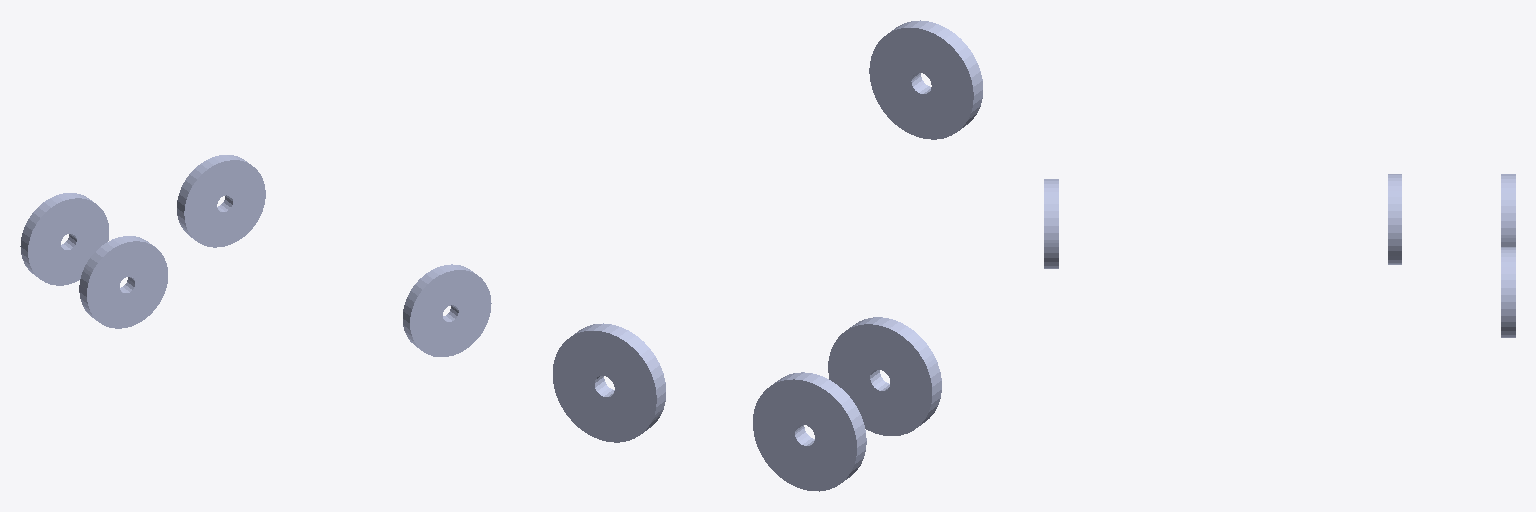
The robot description file, URDF, robot "OP003_robotModel":
<?xml version="1.0" encoding="utf-8"?>
<!-- This URDF was automatically created by SolidWorks to URDF Exporter! Originally created by [author] ([email redacted]) 
     Commit Version: 1.6.0-1-g15f4949  Build Version: 1.6.7594.29634
     For more information, please see http://wiki.ros.org/sw_urdf_exporter -->
<robot
  name="OP003_robotModel">
  <link
    name="base_link">
    <inertial>
      <origin
        xyz="0.245051700459281 0.546295257170444 0.805055023817168"
        rpy="0 0 0" />
      <mass
        value="135.196151840977" />
      <inertia
        ixx="3.11043705676029"
        ixy="0.00141678433850979"
        ixz="-8.85142685952053E-16"
        iyy="12.4167175028441"
        iyz="-1.37846696088194E-16"
        izz="12.7920855454064" />
    </inertial>
    <visual>
      <origin
        xyz="0 0 0"
        rpy="0 0 0" />
      <geometry>
        <mesh
          filename="package://OP003_robotModel/meshes/base_link.STL" />
      </geometry>
      <material
        name="">
        <color
          rgba="0.792156862745098 0.819607843137255 0.933333333333333 1" />
      </material>
    </visual>
    <collision>
      <origin
        xyz="0 0 0"
        rpy="0 0 0" />
      <geometry>
        <mesh
          filename="package://OP003_robotModel/meshes/base_link.STL" />
      </geometry>
    </collision>
  </link>
  <link
    name="wheel_1">
    <inertial>
      <origin
        xyz="-1.11022302462516E-16 5.55111512312578E-17 -0.0253999999999999"
        rpy="0 0 0" />
      <mass
        value="3.87263639146993" />
      <inertia
        ixx="0.0261687361227211"
        ixy="3.46944695195361E-18"
        ixz="-2.4204294328114E-19"
        iyy="0.0261687361227211"
        iyz="1.45330286994585E-20"
        izz="0.0506718255158951" />
    </inertial>
    <visual>
      <origin
        xyz="0 0 0"
        rpy="0 0 0" />
      <geometry>
        <mesh
          filename="package://OP003_robotModel/meshes/wheel_1.STL" />
      </geometry>
      <material
        name="">
        <color
          rgba="0.792156862745098 0.819607843137255 0.933333333333333 1" />
      </material>
    </visual>
    <collision>
      <origin
        xyz="0 0 0"
        rpy="0 0 0" />
      <geometry>
        <mesh
          filename="package://OP003_robotModel/meshes/wheel_1.STL" />
      </geometry>
    </collision>
  </link>
  <joint
    name="wheel_1"
    type="continuous">
    <origin
      xyz="0.56598 -0.58121 0.40454"
      rpy="1.5708 0.39309 -3.1416" />
    <parent
      link="base_link" />
    <child
      link="wheel_1" />
    <axis
      xyz="0 0 1" />
  </joint>
  <link
    name="wheel_2">
    <inertial>
      <origin
        xyz="0 5.55111512312578E-17 0.0253999999999999"
        rpy="0 0 0" />
      <mass
        value="3.87263639146993" />
      <inertia
        ixx="0.0261687361227211"
        ixy="-5.52072451342929E-37"
        ixz="2.3134878028702E-35"
        iyy="0.0261687361227211"
        iyz="-3.25536701190433E-35"
        izz="0.0506718255158951" />
    </inertial>
    <visual>
      <origin
        xyz="0 0 0"
        rpy="0 0 0" />
      <geometry>
        <mesh
          filename="package://OP003_robotModel/meshes/wheel_2.STL" />
      </geometry>
      <material
        name="">
        <color
          rgba="0.792156862745098 0.819607843137255 0.933333333333333 1" />
      </material>
    </visual>
    <collision>
      <origin
        xyz="0 0 0"
        rpy="0 0 0" />
      <geometry>
        <mesh
          filename="package://OP003_robotModel/meshes/wheel_2.STL" />
      </geometry>
    </collision>
  </link>
  <joint
    name="wheel_2"
    type="continuous">
    <origin
      xyz="-0.043122 -0.58121 0.40454"
      rpy="1.5708 0 0" />
    <parent
      link="base_link" />
    <child
      link="wheel_2" />
    <axis
      xyz="0 0 1" />
  </joint>
  <link
    name="wheel_3">
    <inertial>
      <origin
        xyz="0 5.55111512312578E-17 0.0253999999999998"
        rpy="0 0 0" />
      <mass
        value="3.87263639146993" />
      <inertia
        ixx="0.0261687361227211"
        ixy="-5.5207245134248E-37"
        ixz="1.35235594664954E-33"
        iyy="0.0261687361227211"
        iyz="-3.25536701190433E-35"
        izz="0.0506718255158951" />
    </inertial>
    <visual>
      <origin
        xyz="0 0 0"
        rpy="0 0 0" />
      <geometry>
        <mesh
          filename="package://OP003_robotModel/meshes/wheel_3.STL" />
      </geometry>
      <material
        name="">
        <color
          rgba="0.792156862745098 0.819607843137255 0.933333333333333 1" />
      </material>
    </visual>
    <collision>
      <origin
        xyz="0 0 0"
        rpy="0 0 0" />
      <geometry>
        <mesh
          filename="package://OP003_robotModel/meshes/wheel_3.STL" />
      </geometry>
    </collision>
  </link>
  <joint
    name="wheel_3"
    type="continuous">
    <origin
      xyz="0.56598 -0.97811 0.40454"
      rpy="1.5708 0 0" />
    <parent
      link="base_link" />
    <child
      link="wheel_3" />
    <axis
      xyz="0 0 1" />
  </joint>
  <link
    name="wheel_4">
    <inertial>
      <origin
        xyz="2.77555756156289E-17 -5.55111512312578E-17 0.0253999999999998"
        rpy="0 0 0" />
      <mass
        value="3.87263639146993" />
      <inertia
        ixx="0.0261687361227211"
        ixy="2.60208521396521E-18"
        ixz="1.04662995739475E-19"
        iyy="0.0261687361227211"
        iyz="-1.65009336561779E-19"
        izz="0.0506718255158951" />
    </inertial>
    <visual>
      <origin
        xyz="0 0 0"
        rpy="0 0 0" />
      <geometry>
        <mesh
          filename="package://OP003_robotModel/meshes/wheel_4.STL" />
      </geometry>
      <material
        name="">
        <color
          rgba="0.792156862745098 0.819607843137255 0.933333333333333 1" />
      </material>
    </visual>
    <collision>
      <origin
        xyz="0 0 0"
        rpy="0 0 0" />
      <geometry>
        <mesh
          filename="package://OP003_robotModel/meshes/wheel_4.STL" />
      </geometry>
    </collision>
  </link>
  <joint
    name="wheel_4"
    type="continuous">
    <origin
      xyz="-0.043122 -0.97811 0.40454"
      rpy="-1.5708 -0.50649 3.1416" />
    <parent
      link="base_link" />
    <child
      link="wheel_4" />
    <axis
      xyz="0 0 1" />
  </joint>
</robot>

--- Facts derived from the render (not from the file) ---
The picture shows the robot from 3 angles, left to right: view 1: azimuth 30°, elevation 25°; view 2: azimuth 150°, elevation 25°; view 3: azimuth 270°, elevation 25°; orthographic projection.
Model OP003_robotModel with 5 links and 4 joints (4 continuous), rooted at base_link, posed all joints at 0.
Visible links, largest first — view 1: wheel_1, wheel_4, wheel_3, wheel_2; view 2: wheel_3, wheel_2, wheel_1, wheel_4; view 3: wheel_1, wheel_3, wheel_4, wheel_2.
Boxes of the visible links, x1,y1,x2,y2 form: wheel_1: (177, 155, 265, 247); wheel_4: (79, 236, 167, 328); wheel_3: (403, 264, 491, 356); wheel_2: (20, 193, 108, 285); wheel_3: (869, 20, 982, 139); wheel_2: (753, 372, 866, 491); wheel_1: (553, 323, 665, 442); wheel_4: (828, 317, 941, 435); wheel_1: (1501, 247, 1515, 337); wheel_3: (1044, 179, 1058, 268); wheel_4: (1388, 174, 1401, 264); wheel_2: (1501, 174, 1515, 246).
Bounding box of the posed robot: 0.9263 × 1.65 × 0.563 m (x, y, z).
Meshes: 5 distinct files referenced, 4 mesh visuals loaded (4 binary STL); not drawn: 1 (reference not matched to a file when rendering).